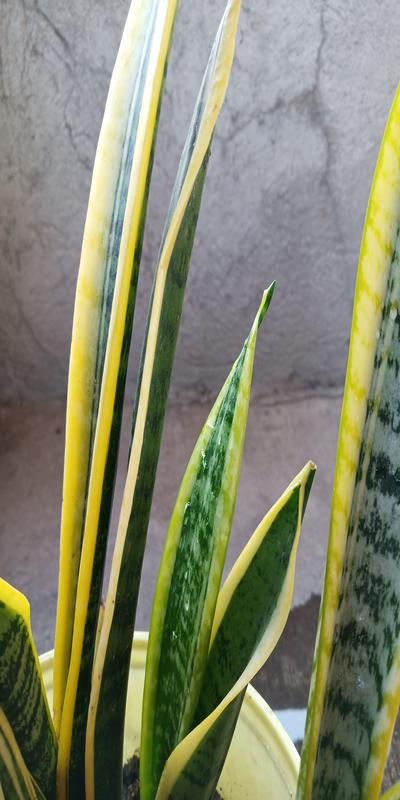Snake plant: (63, 7, 400, 769)
